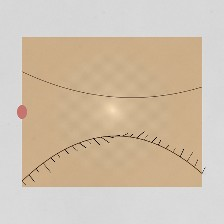pinguecula_lesion: (162, 104, 196, 131)
